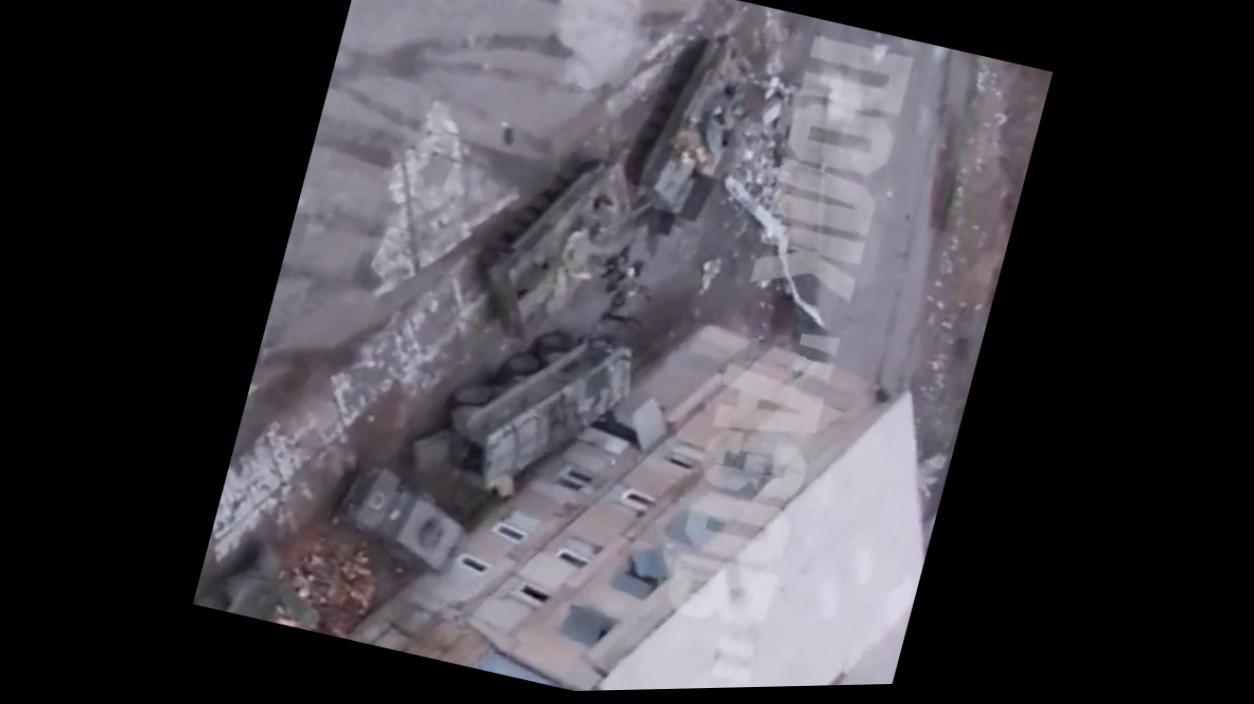armored_car: (326, 456, 475, 582)
person: (596, 247, 652, 303), (596, 233, 636, 285), (598, 308, 648, 338), (626, 271, 663, 304)
tank: (457, 133, 642, 360), (619, 19, 761, 228)
truck: (402, 298, 641, 522), (191, 528, 336, 635)
